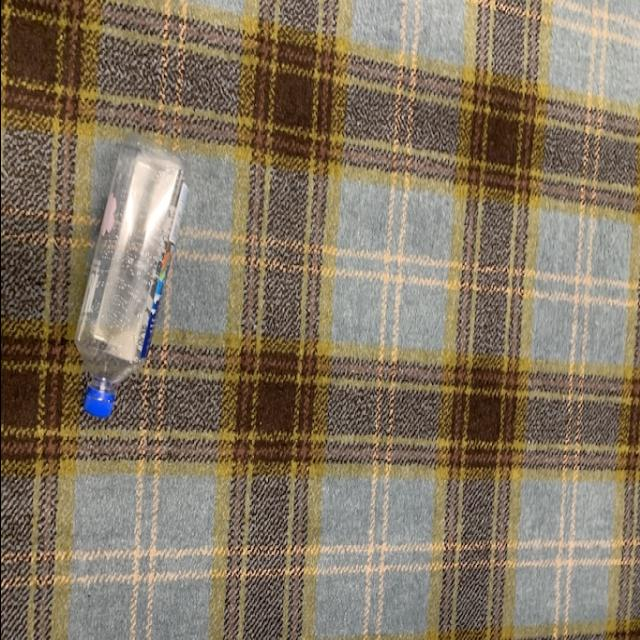litter: (62, 145, 190, 425)
